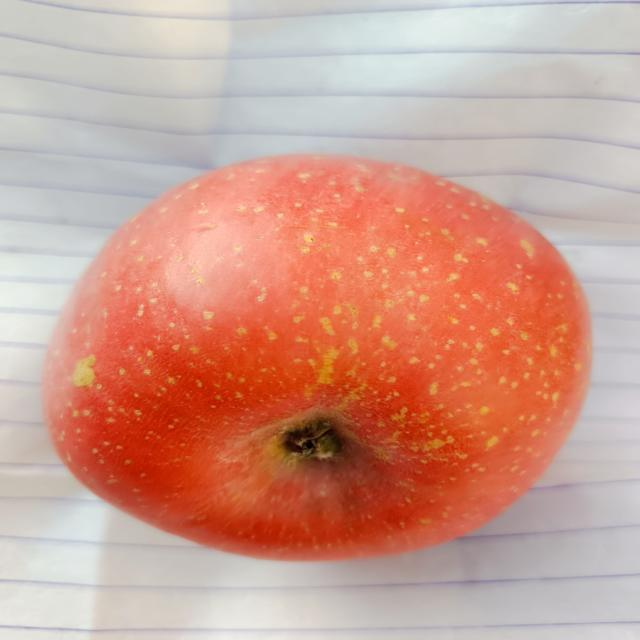Fresh Apple: (55, 153, 580, 562)
